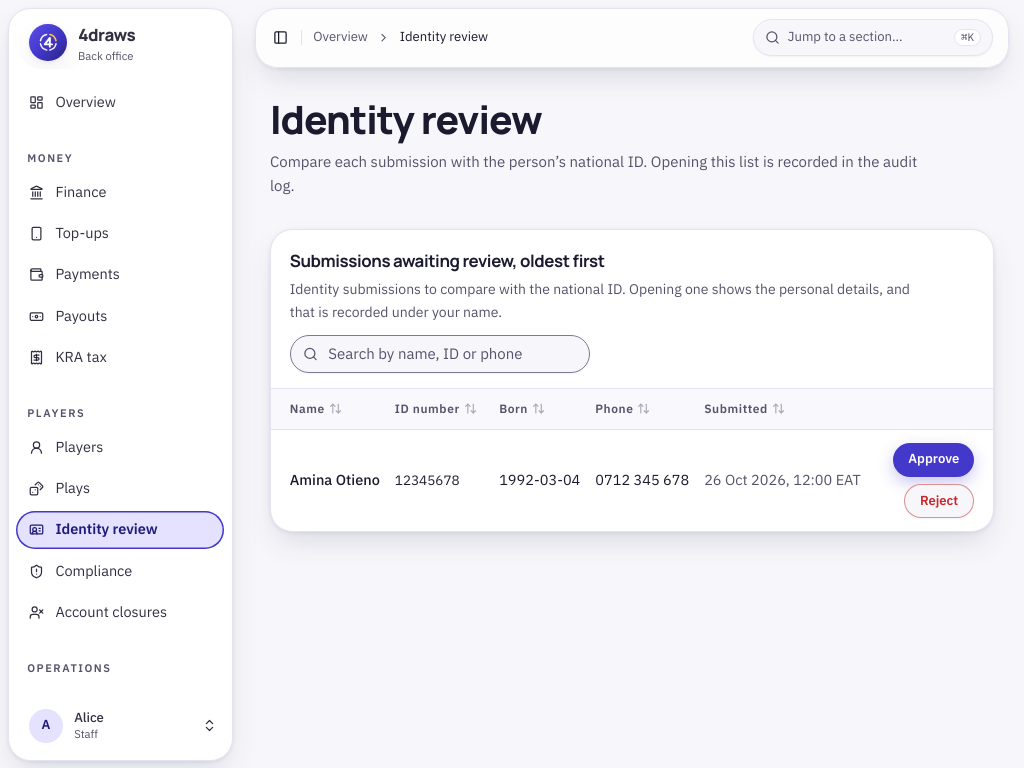
Test: identity review › approving needs a reason, sends it, and reloads the queue
Click the button "Approve" at (934, 460), box x1=893 y1=443 x2=974 y2=477
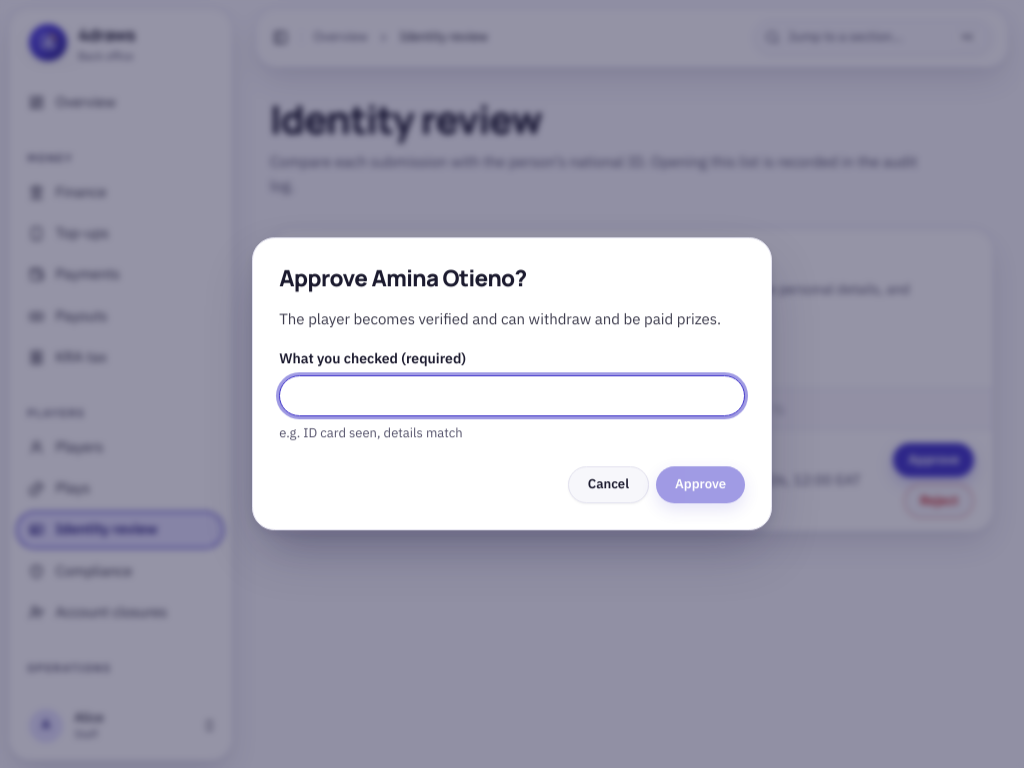
Now the button "Approve" is disabled, box x1=656 y1=466 x2=745 y2=503
Type "ID card seen; details match" into the field labelled "What you checked (required)" at (512, 396), box x1=279 y1=375 x2=745 y2=417
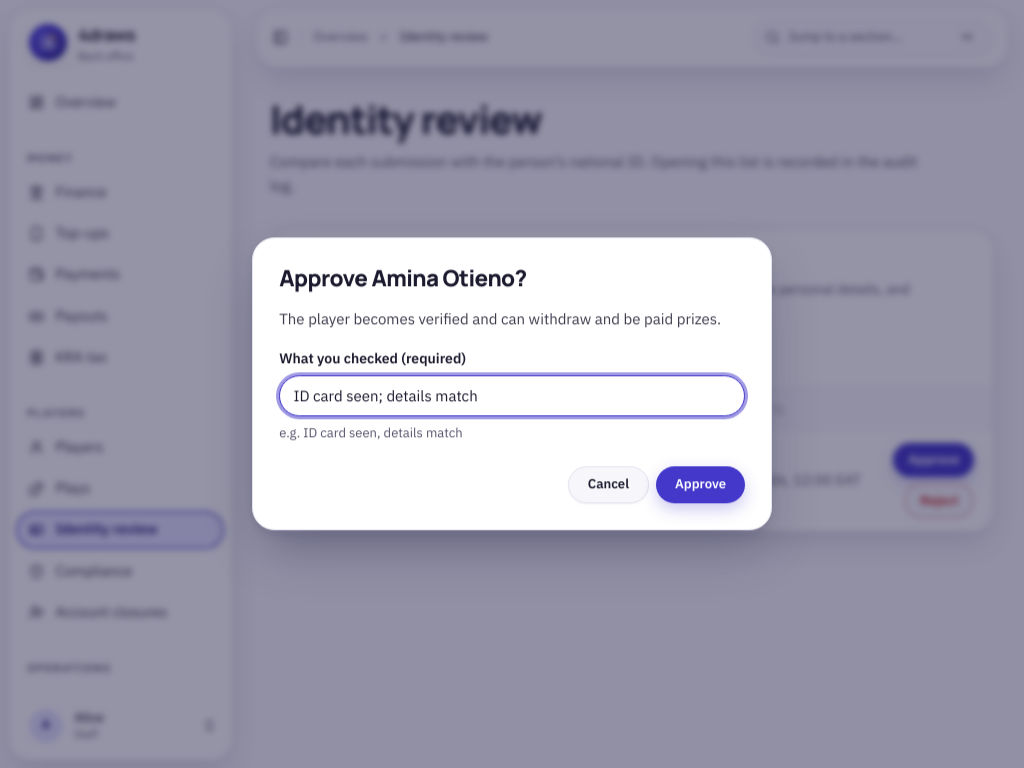
Click the button "Approve" at (701, 485), box x1=656 y1=466 x2=745 y2=503
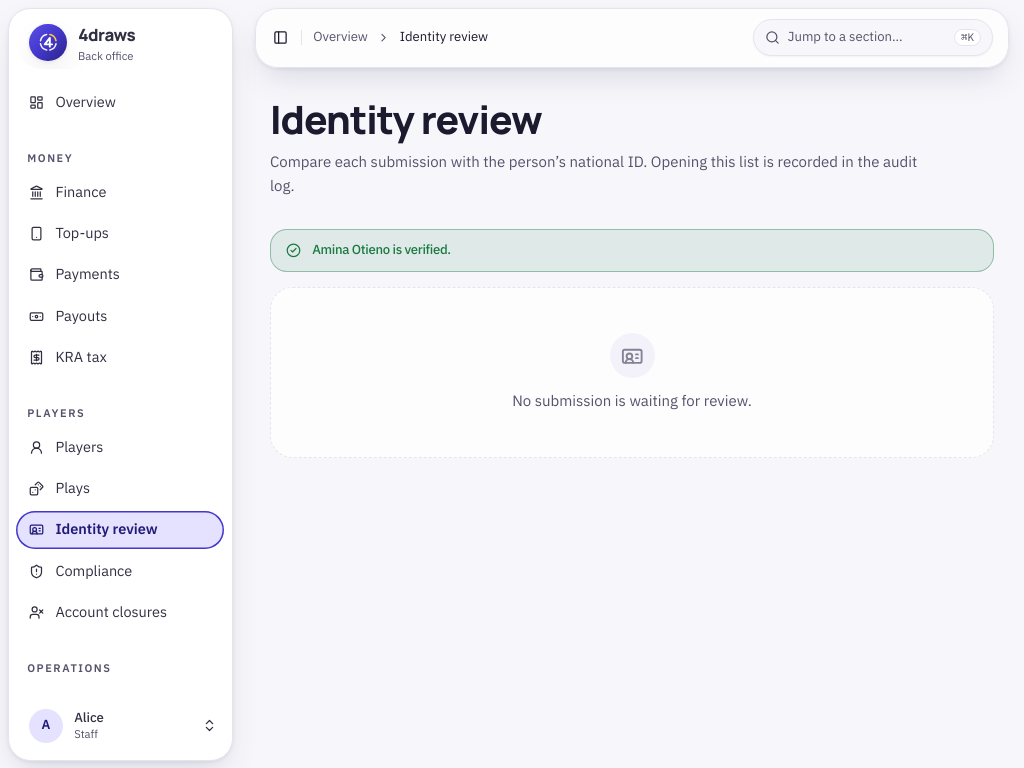
Now the message reads "Amina Otieno is verified.", box x1=312 y1=241 x2=451 y2=258
Now the text "No submission is waiting for review." is shown, box x1=512 y1=389 x2=752 y2=412
